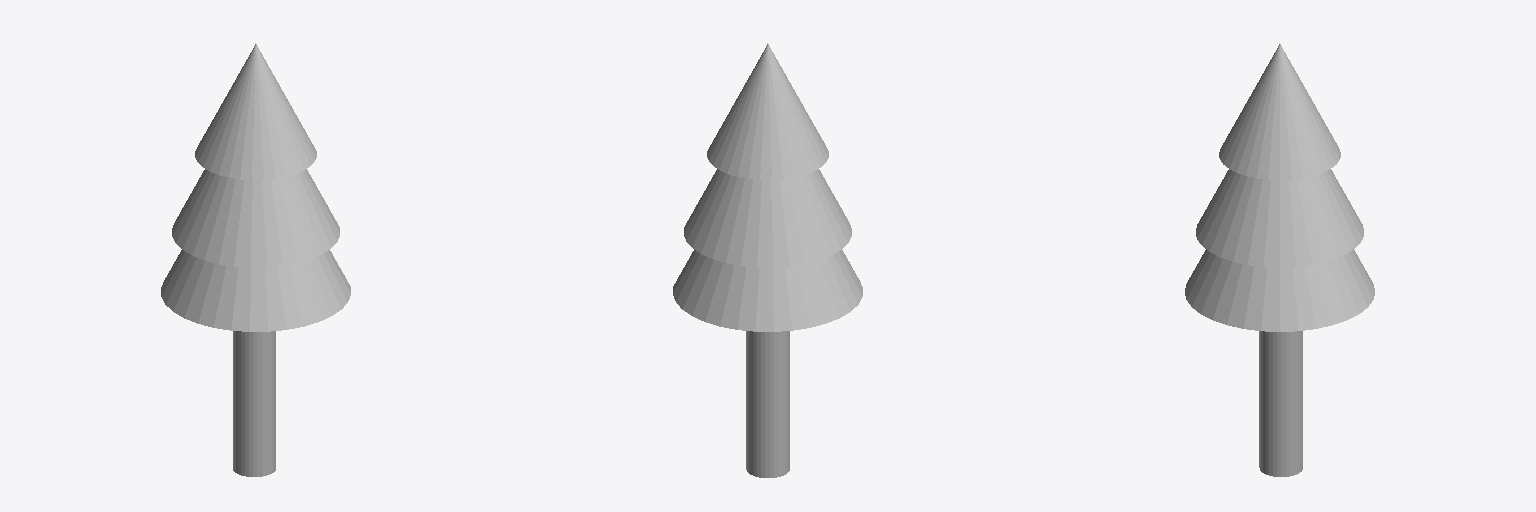
The model's file is tree4.obj.
3 renders of one model, left to right at view 1: azimuth 30°, elevation 25°; view 2: azimuth 150°, elevation 25°; view 3: azimuth 270°, elevation 25°, orthographic.
Visible parts, largest first — view 1: Cylinder; view 2: Cylinder; view 3: Cylinder.
Boxes of the visible parts, <box> form: Cylinder: <box>161,44,350,476</box>; Cylinder: <box>673,44,862,477</box>; Cylinder: <box>1185,44,1374,476</box>.
Bounding box in the file's own units: 4.89 × 12 × 4.89.